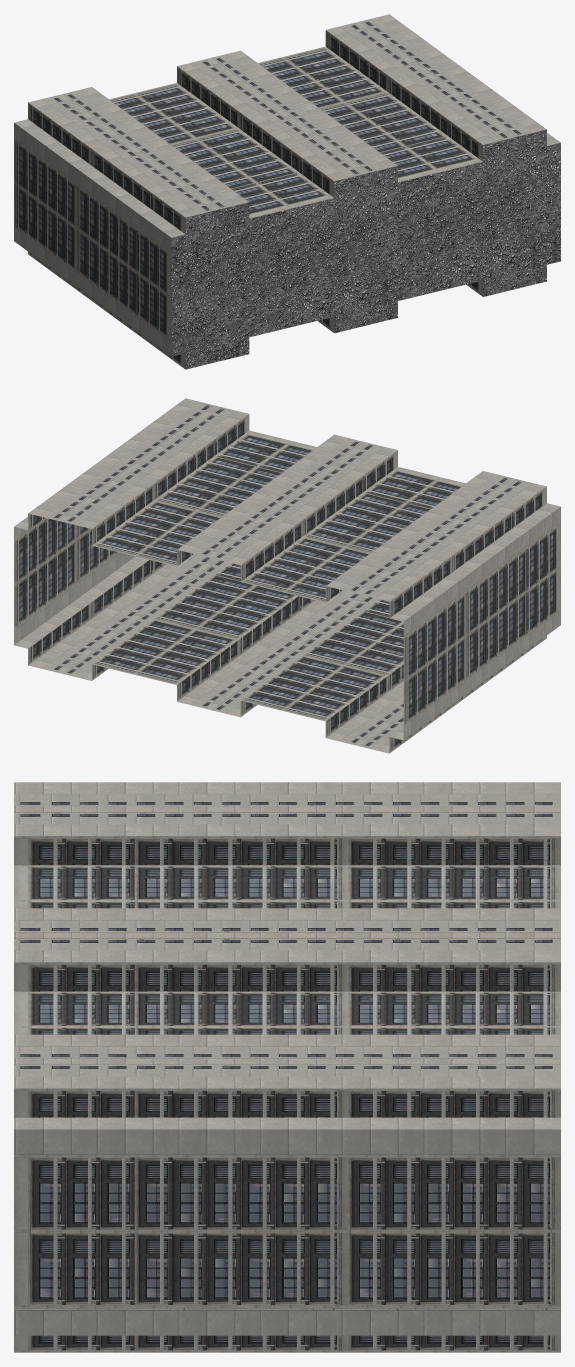
Rendered from mp_nuketown_2020_vista_bldg_02_LOD0.obj.
3 views of the same model, one above another, from view 1: azimuth 30°, elevation 25°; view 2: azimuth 150°, elevation 25°; view 3: azimuth 270°, elevation 25° (orthographic). The views are drawn at different scales.
Parts seen in each view (by area): view 1: mp_m_vista_bldgs_01; view 2: mp_m_vista_bldgs_01; view 3: mp_m_vista_bldgs_01.
Boxes of the visible parts, left/top/right/bottom form: mp_m_vista_bldgs_01: left=14, top=14, right=560, bottom=369; mp_m_vista_bldgs_01: left=14, top=398, right=560, bottom=753; mp_m_vista_bldgs_01: left=14, top=782, right=560, bottom=1352.
Size of the model in its own units: 8941 by 3332 by 6259.
Materials: 1 (1 with a texture image).
